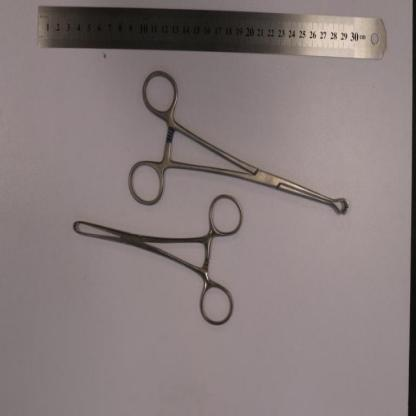8 Babcock Tissue Forceps: (126, 68, 351, 216)
Allis Tissue Forceps: (72, 190, 243, 329)
